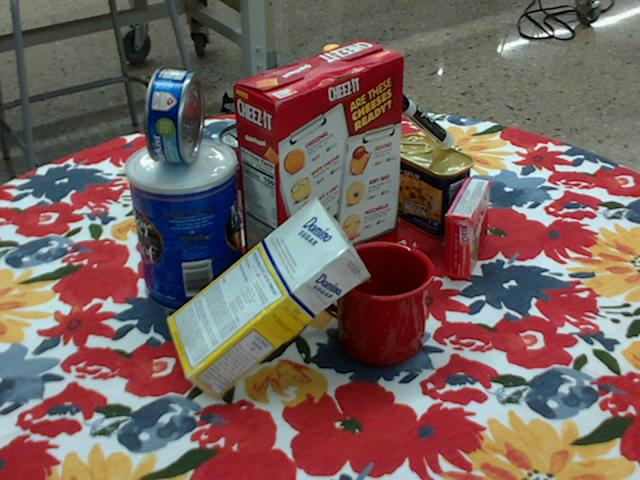cracker_box: (232, 39, 406, 303)
gelatin_box: (445, 176, 492, 280)
large_marker: (386, 86, 455, 148)
master_chef_can: (126, 138, 243, 315)
mug: (314, 239, 435, 365)
mustard_bottle: (301, 44, 373, 222)
potted_meat_can: (386, 133, 475, 238)
sugar_box: (166, 197, 370, 403)
tomato_soup_can: (220, 121, 285, 229)
tuna_fish_can: (144, 66, 203, 162)
